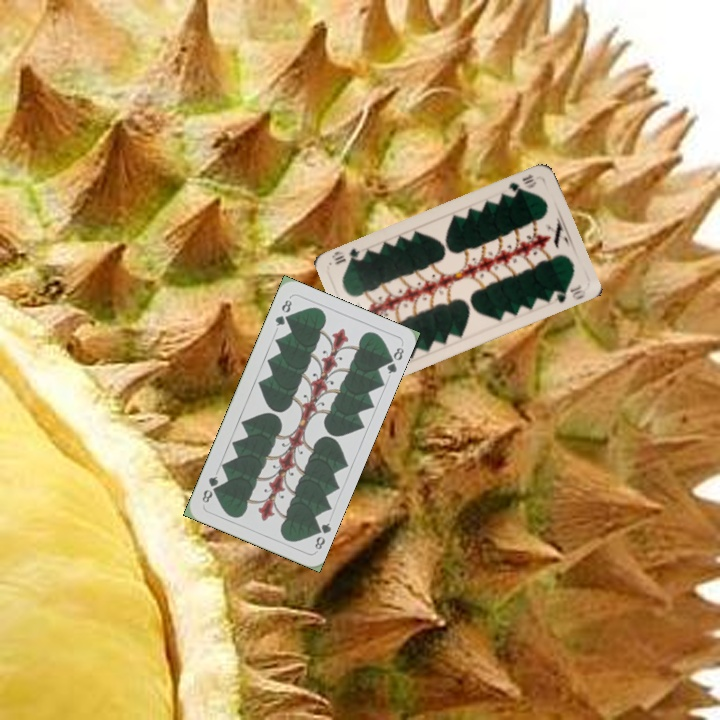G10: (504, 170, 539, 197)
G8: (309, 519, 333, 552), (271, 295, 294, 329)
